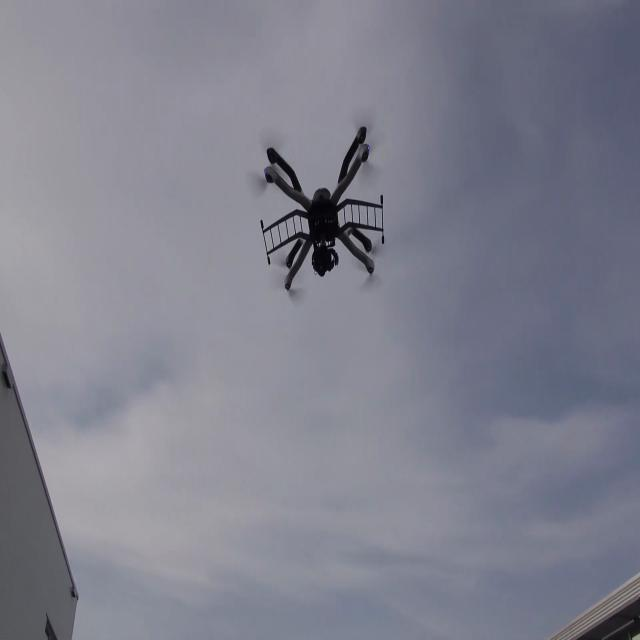drone: (240, 102, 404, 302)
